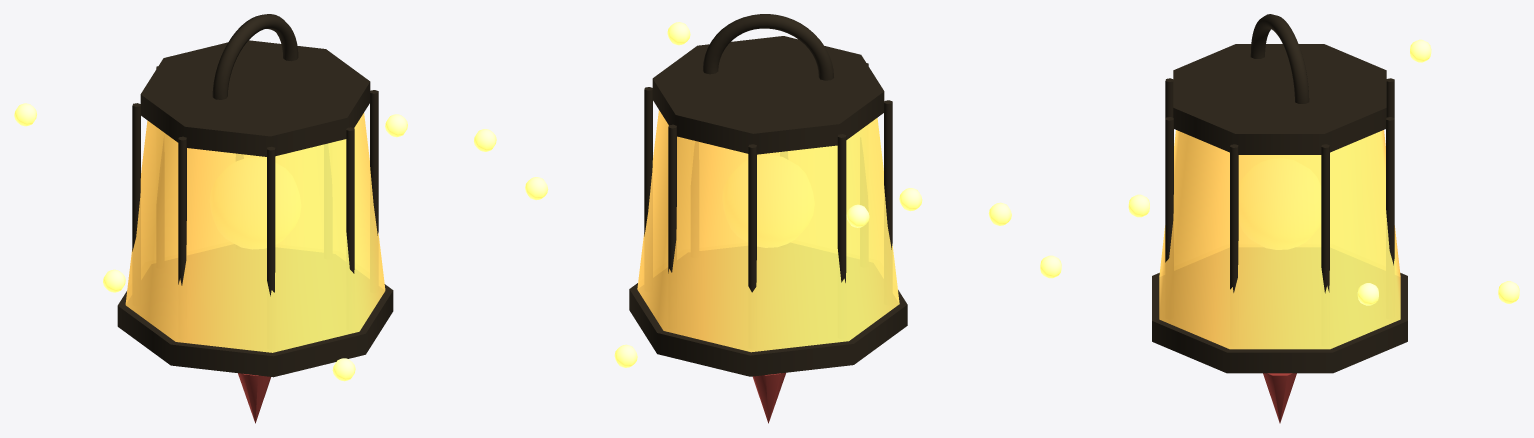
The model's file is lantern_light.glb.
3 views of the same model, side by side, from view 1: azimuth 30°, elevation 25°; view 2: azimuth 150°, elevation 25°; view 3: azimuth 270°, elevation 25° (orthographic).
Bounding box in the file's own units: 1.16 × 1.16 × 1.25.
